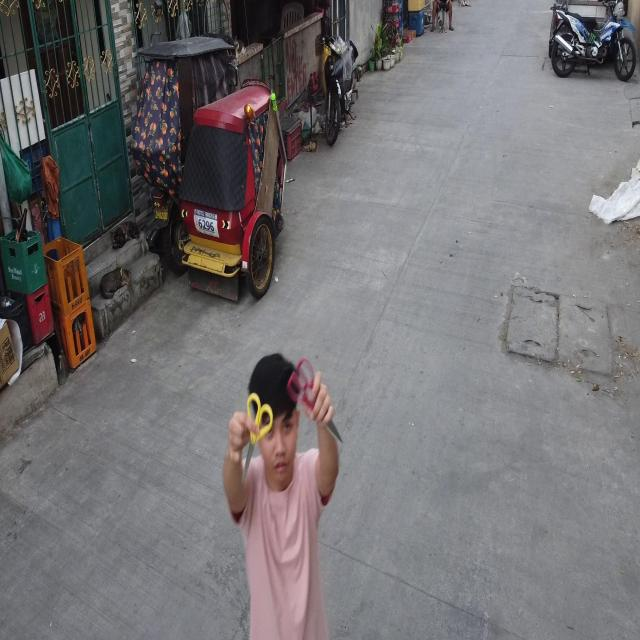scissor: (287, 356, 344, 450), (242, 393, 274, 483)
